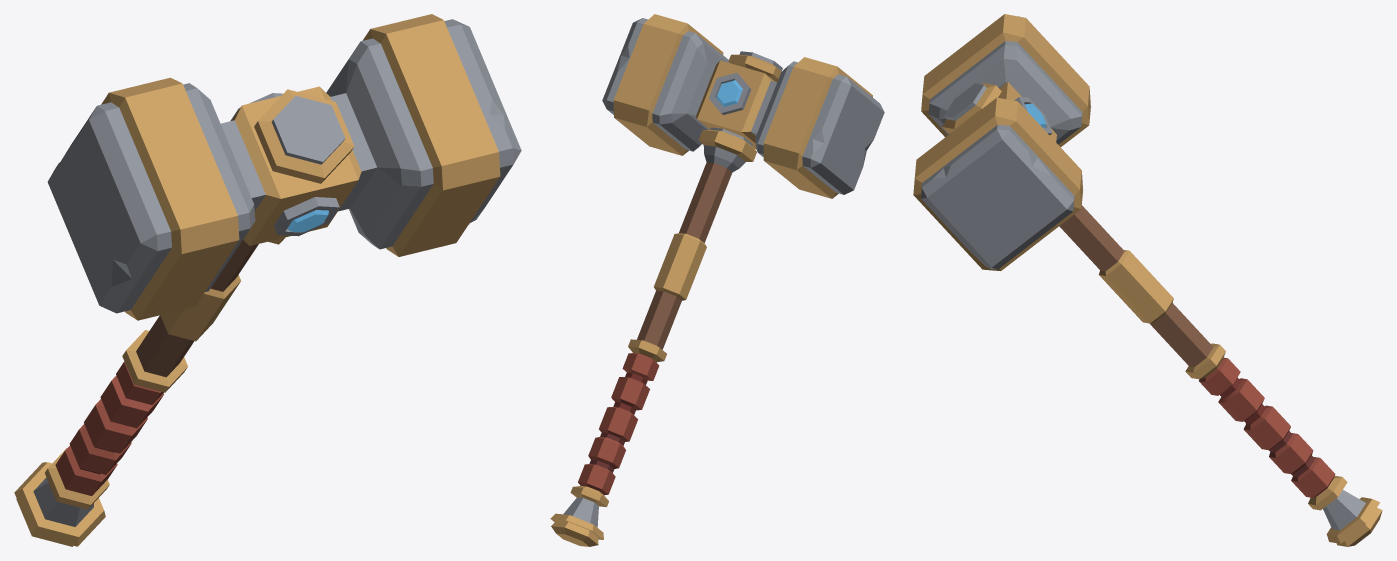
Rendered from dr-warhammer-large-01.glb.
3 renders of one model, left to right at view 1: azimuth 30°, elevation 25°; view 2: azimuth 150°, elevation 25°; view 3: azimuth 270°, elevation 25°, orthographic. The views are drawn at different scales.
Parts seen in each view (by area): view 1: dr-warhammer-large-01; view 2: dr-warhammer-large-01; view 3: dr-warhammer-large-01.
Part boxes in pixels (x1,y1,x2,y2): dr-warhammer-large-01: [14, 14, 521, 546]; dr-warhammer-large-01: [550, 14, 884, 546]; dr-warhammer-large-01: [913, 14, 1382, 546].
Size of the model in its own units: 0.4466 by 0.7581 by 0.682.
Materials: 1 (1 with a texture image).
